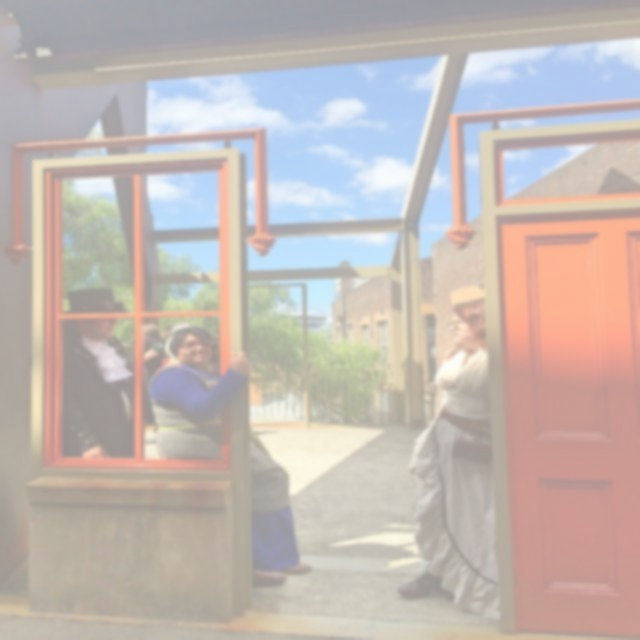pessoa: (140, 320, 320, 592), (394, 298, 500, 610), (56, 286, 160, 458), (142, 322, 170, 378), (164, 325, 172, 333)
